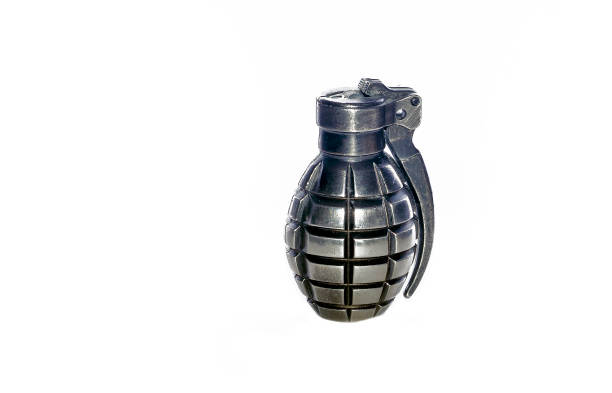e1: (281, 77, 436, 323)
